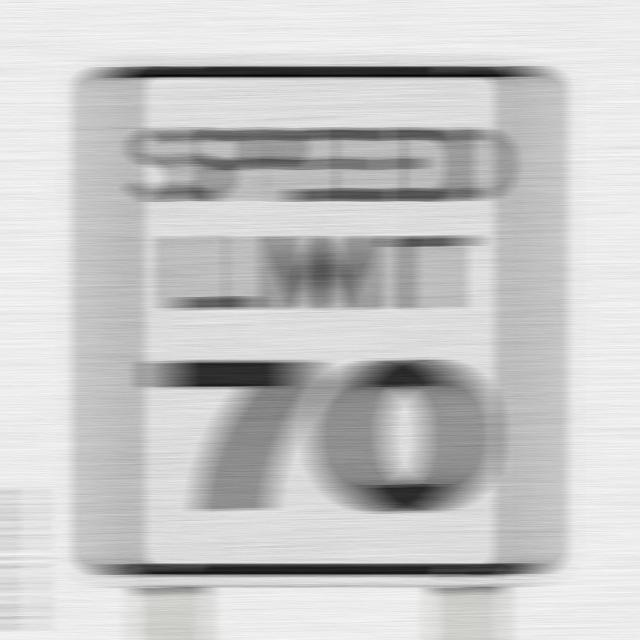speedLimit70: (80, 57, 551, 588)
